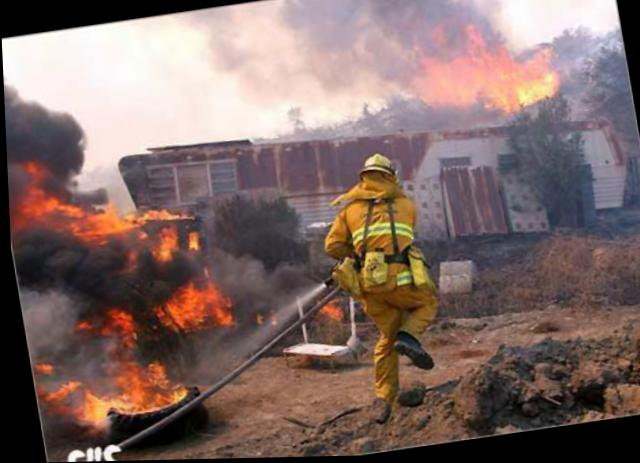fire: (481, 55, 559, 111), (157, 277, 230, 332), (419, 60, 483, 107), (72, 200, 126, 240), (8, 185, 57, 229), (73, 391, 108, 427), (109, 360, 143, 397), (99, 303, 130, 340), (126, 389, 181, 408), (148, 230, 178, 259), (138, 361, 165, 393), (104, 392, 133, 412), (136, 207, 171, 223), (312, 302, 339, 319), (180, 227, 198, 252)
